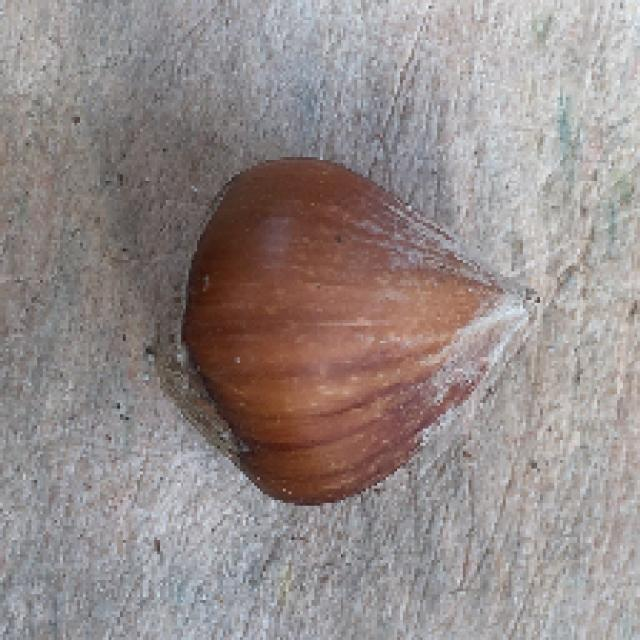qualityHazelnut: (110, 154, 558, 516)
